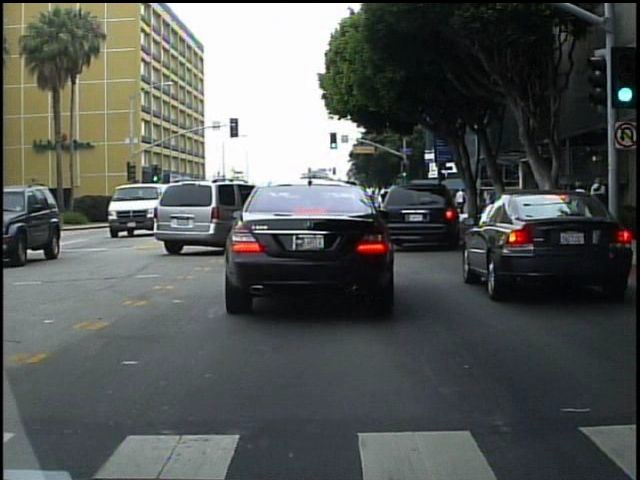person: (587, 172, 606, 233), (456, 185, 467, 216)
